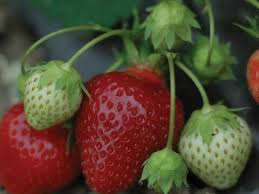ripe: (77, 65, 186, 189), (3, 98, 75, 192)
unripe: (186, 97, 250, 190), (19, 59, 88, 131)
